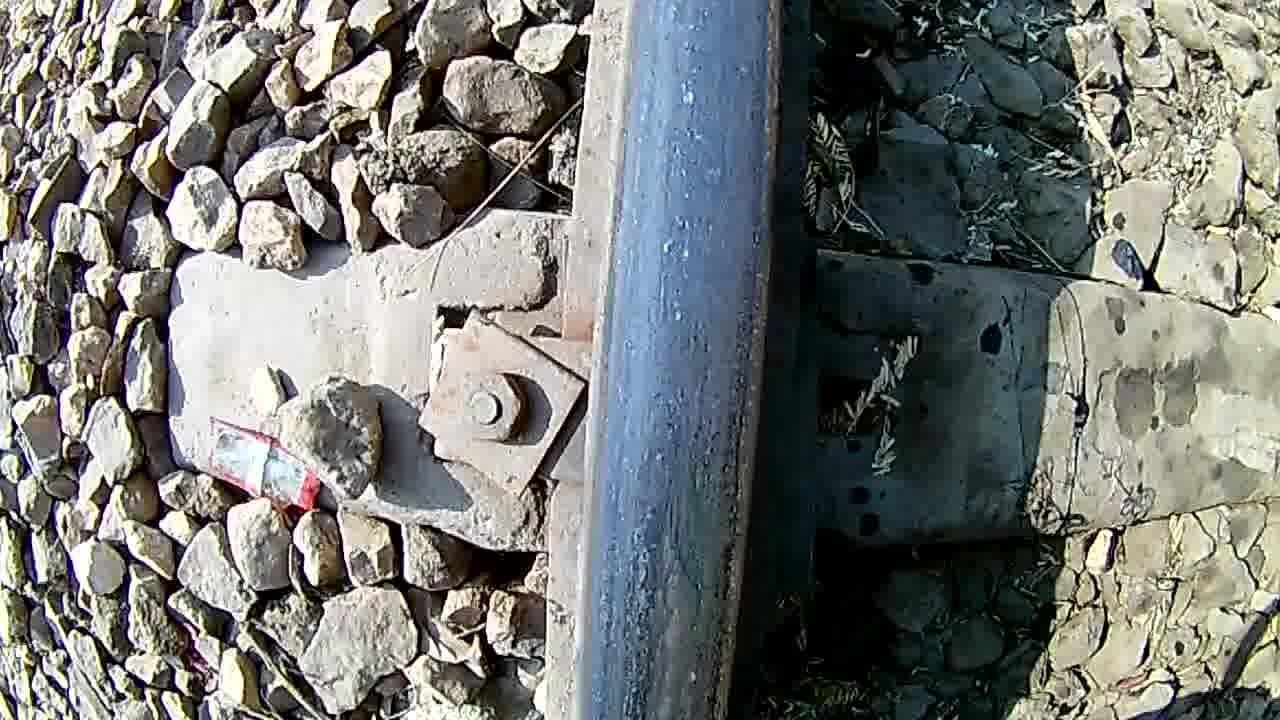crack: (582, 337, 762, 720)
